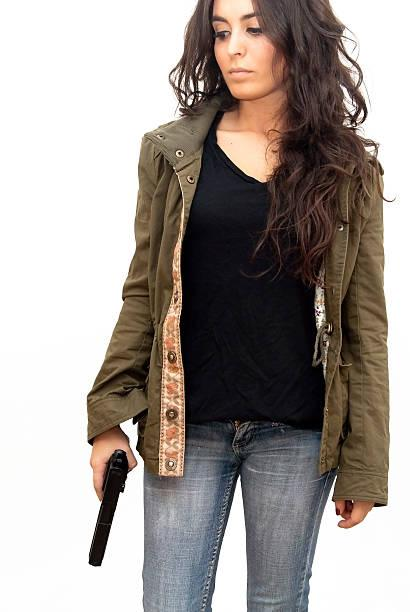weapon: (85, 446, 132, 568)
